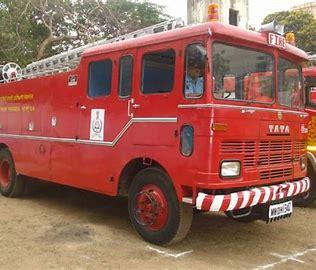Fire-engine: (0, 2, 315, 246)
